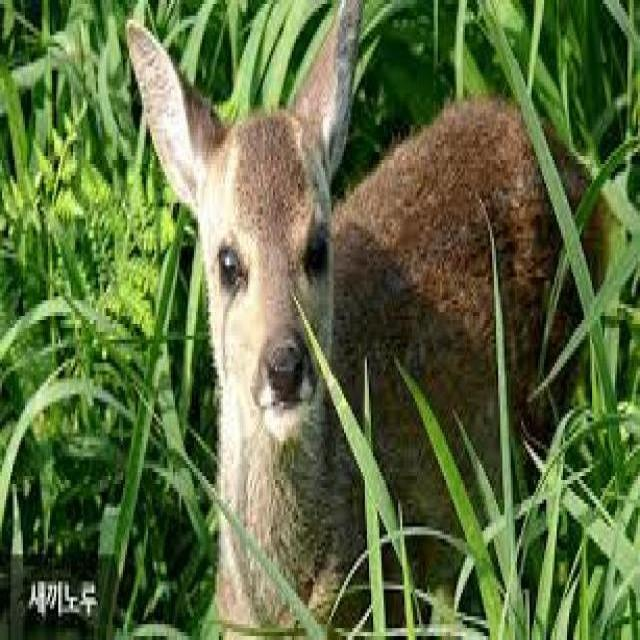deer: (109, 0, 607, 563)
